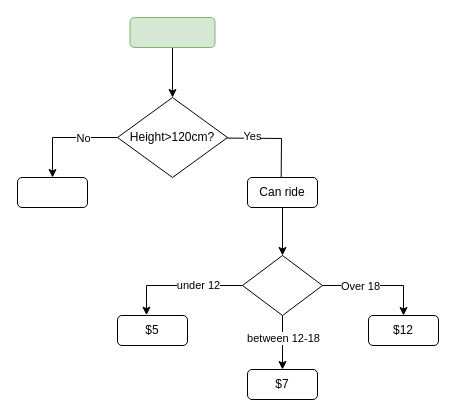
This 456x417 diagram has some shape labels left out. The shapes that lost their labels are listed below. From the top down, each one's box as (x1, y1, x2, y2) in pixels, then its label:
(129, 16, 215, 48): Start
(16, 176, 88, 208): Can't ride
(242, 254, 322, 316): age
